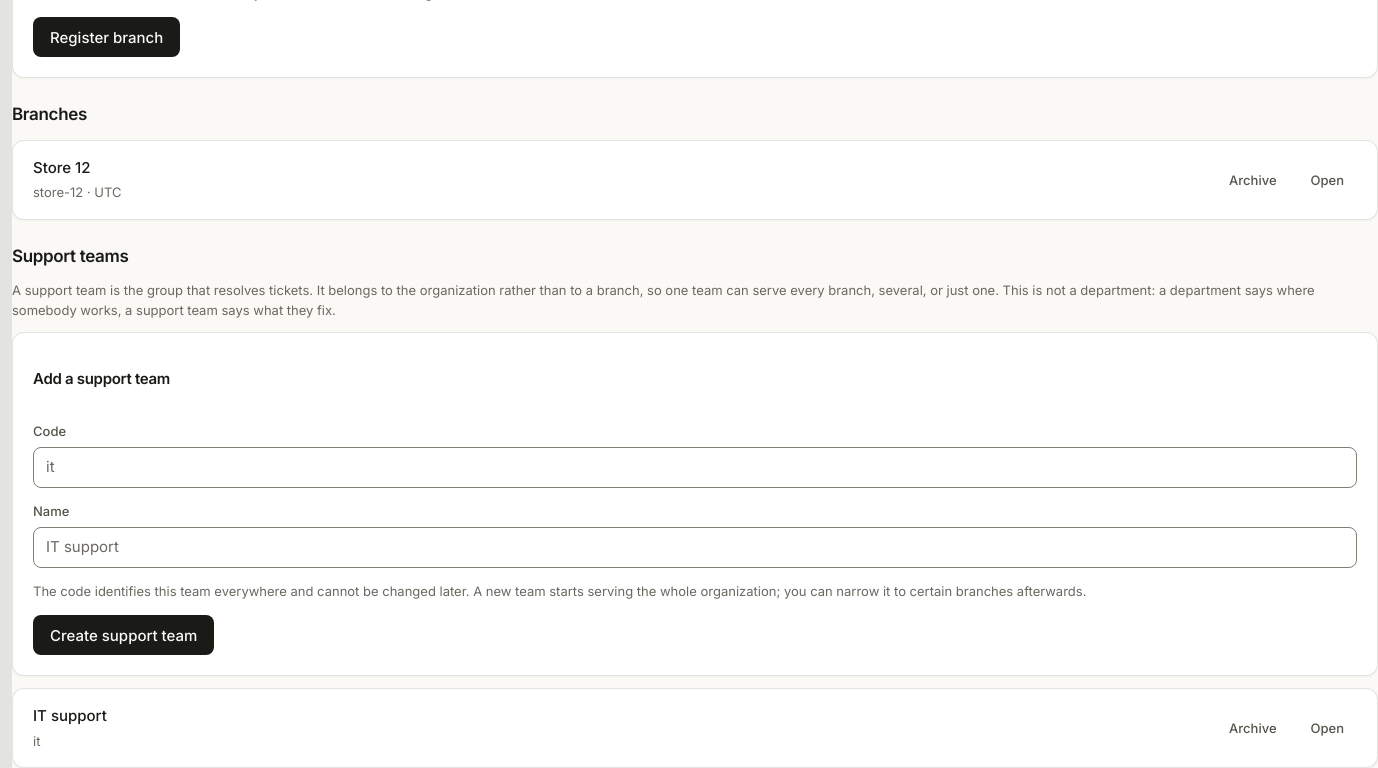
Test: the support teams section › does not pretend removal is instant
(page scrolled)
Expected: the text "IT support" is shown, [33,705,107,728]
Click the button "Open" in the row of "IT support": (1327, 728) [1298,712,1357,744]
(page scrolled)
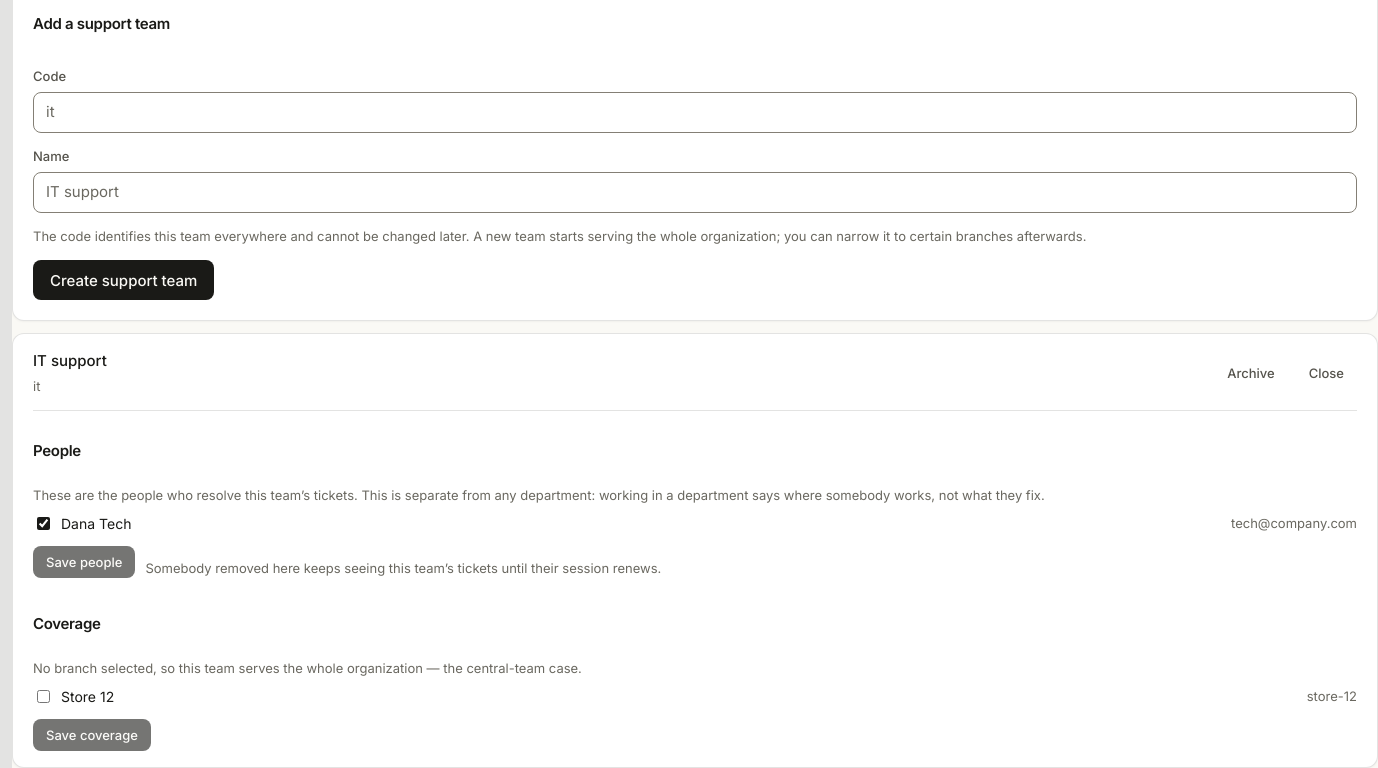
Result: the text "until their session renews" is shown at [145,560,661,576]
